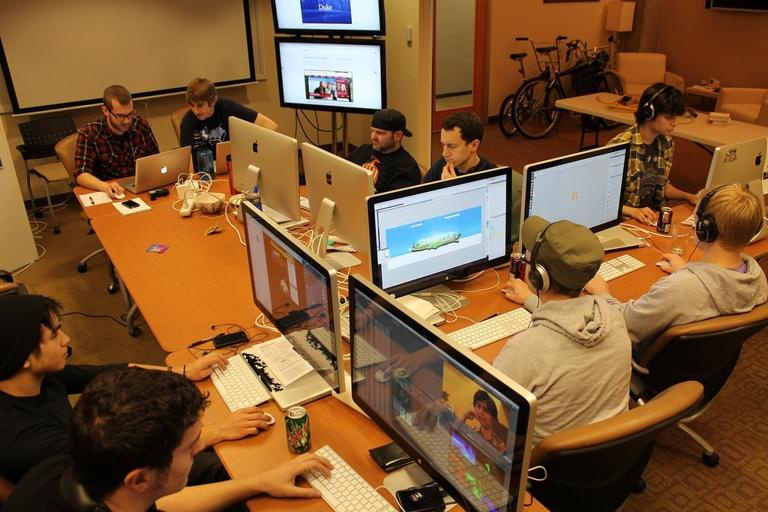non-vehicle: (511, 36, 628, 135), (493, 33, 569, 135)
